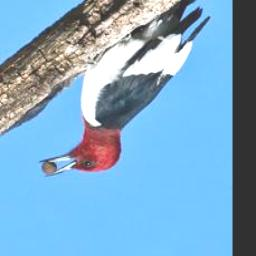Woodpecker: (36, 1, 212, 182)
